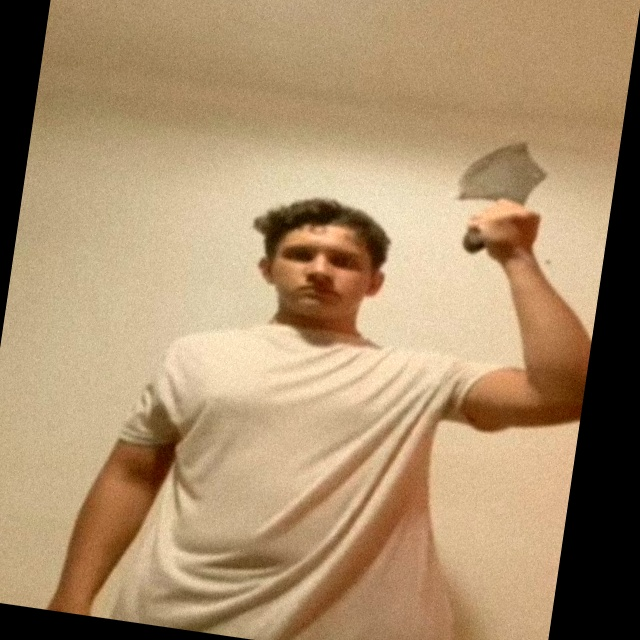Sharp-Object: (454, 131, 555, 212)
